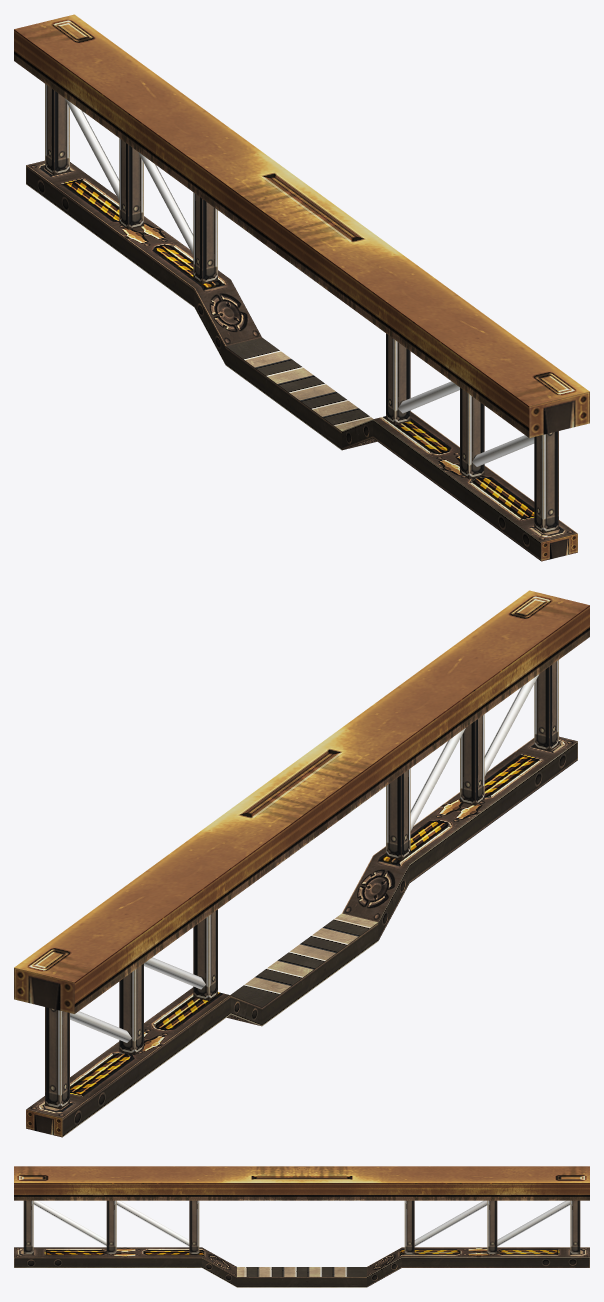
Rendered from mpr_beam_large.FBX.
3 renders of one model, top to bottom at view 1: azimuth 30°, elevation 25°; view 2: azimuth 150°, elevation 25°; view 3: azimuth 270°, elevation 25°, orthographic. The views are drawn at different scales.
Visible parts, largest first — view 1: mpr_beam_large; view 2: mpr_beam_large; view 3: mpr_beam_large.
Boxes of the visible parts, x1=… form: mpr_beam_large: x1=14, y1=14, x2=589, y2=561; mpr_beam_large: x1=14, y1=590, x2=589, y2=1137; mpr_beam_large: x1=14, y1=1166, x2=589, y2=1287.
Bounding box in the file's own units: 100 × 304 × 1472.
Materials: 1 (1 with a texture image).
